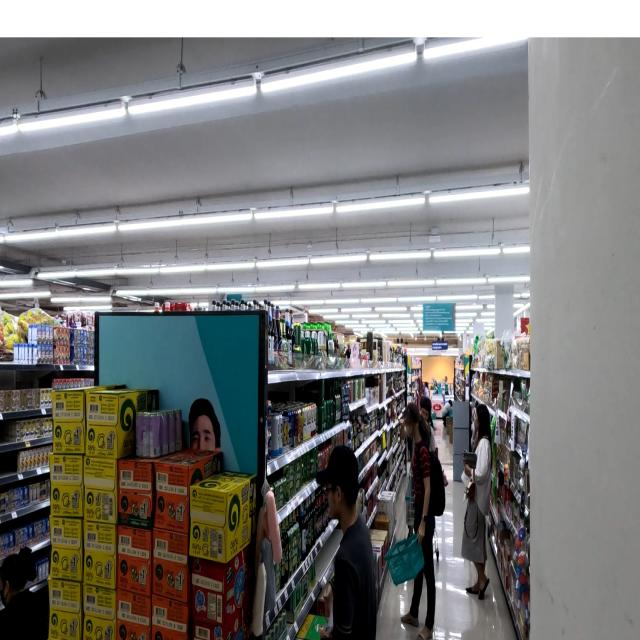shoplifting: (310, 446, 380, 640)
